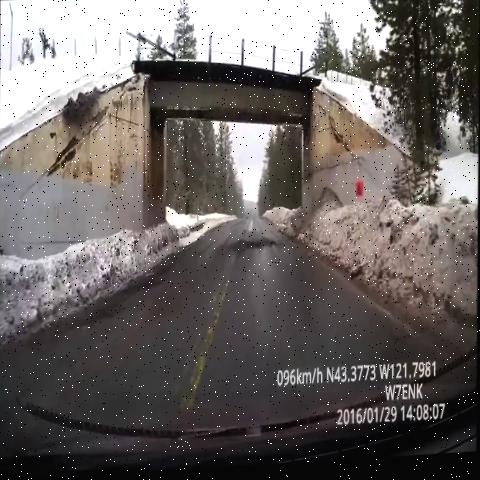pothole: (217, 222, 290, 272)
